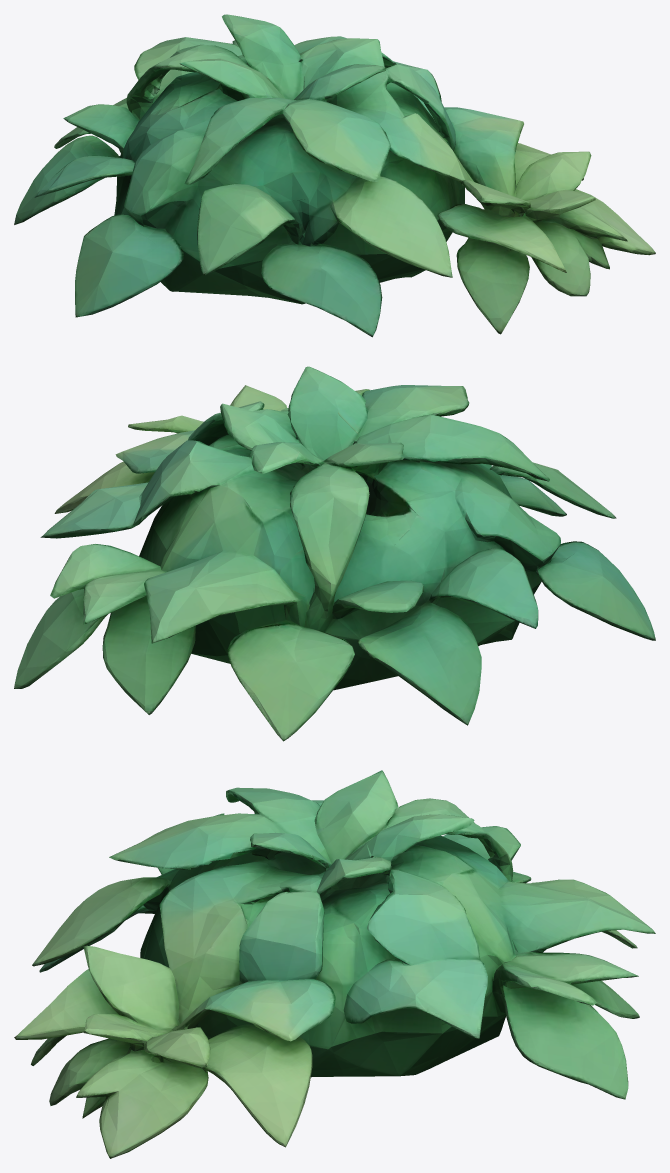
The model's file is clover_patch.glb.
3 views of the same model, one above another, from view 1: azimuth 30°, elevation 25°; view 2: azimuth 150°, elevation 25°; view 3: azimuth 270°, elevation 25° (orthographic). The views are drawn at different scales.
Parts seen in each view (by area): view 1: world; view 2: world; view 3: world.
Part boxes in pixels (x1=…): world: x1=14, y1=14, x2=655, y2=337; world: x1=14, y1=366, x2=655, y2=741; world: x1=14, y1=770, x2=655, y2=1158.
Bounding box in the file's own units: 0.9899 × 0.3776 × 0.9616.
Materials: 1 (1 with a texture image).
